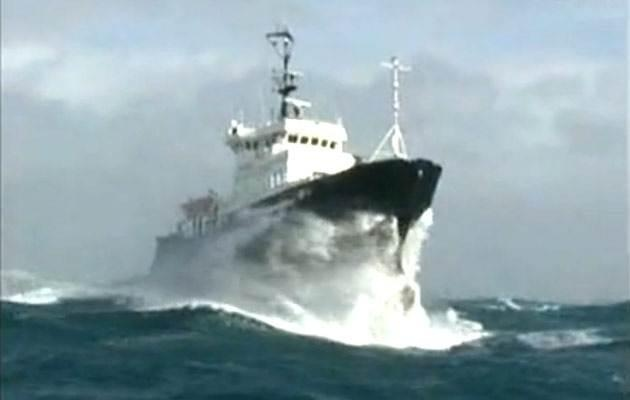warship: (144, 17, 449, 294)
